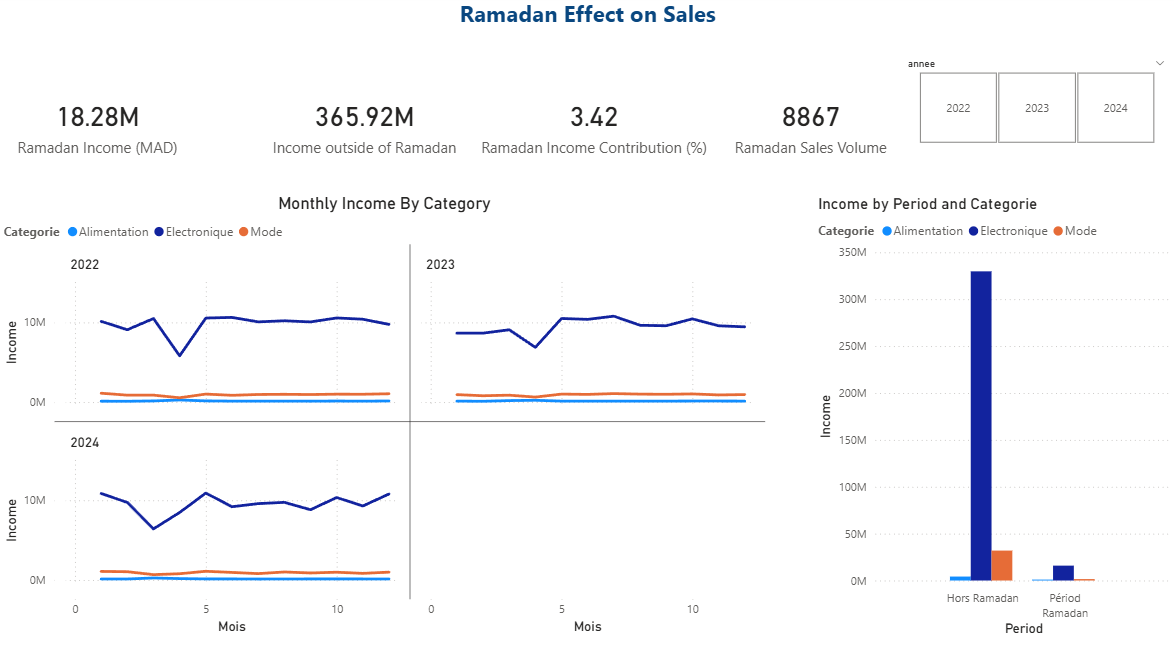

Layout of this report page (visuals, bound fields, positions):
{"tool":"powerbi","page":{"name":"Effet Ramadan","canvas":[1280,720],"ordinal":4},"visuals":[{"type":"textbox","box":[227.7,0,1031.2,91.1],"z":0},{"type":"card","fields":{"Values":["FAIT_VENTES.CA Ramadan"]},"box":[0,45.4,300.5,141.7],"z":1000},{"type":"card","fields":{"Values":["FAIT_VENTES.CA Hors Ramadan"]},"box":[274,49.1,300.5,138],"z":2000},{"type":"card","fields":{"Values":["FAIT_VENTES.Retours Total"]},"box":[749.8,60.2,203.3,117.1],"z":3000},{"type":"lineChart","fields":{"Category":["MV_CA_MENSUEL.mois"],"Y":["Sum(MV_CA_MENSUEL.ca_ttc)"],"Series":["MV_CA_MENSUEL.categorie"],"Rows":["MV_CA_MENSUEL.annee"]},"box":[19.5,224.5,832.8,445.7],"z":4000},{"type":"card","fields":{"Values":["FAIT_VENTES.% CA Ramadan"]},"box":[540,55.3,203.3,118.7],"z":5000},{"type":"clusteredColumnChart","fields":{"Category":["MV_CA_MENSUEL.categorie"],"Y":["Sum(MV_CA_MENSUEL.ca_ttc)"],"Series":["MV_CA_MENSUEL.periode_ramadan"]},"box":[943,259,266,412],"z":6000},{"type":"slicer","fields":{"Values":["MV_CA_MENSUEL.annee"]},"box":[967.8,55.3,253.7,104.1],"z":7000}]}

Visuals, with their boxes in screenshot pixels (x1, y1, x2, y2), scaled from the page's 1280x720 canvas onto the 1174x655 screenshot:
textbox: <region>209, 0, 1155, 83</region>
card - FAIT_VENTES.CA Ramadan: <region>0, 41, 276, 170</region>
card - FAIT_VENTES.CA Hors Ramadan: <region>251, 45, 527, 170</region>
card - FAIT_VENTES.Retours Total: <region>688, 55, 874, 161</region>
lineChart - MV_CA_MENSUEL.mois x Sum(MV_CA_MENSUEL.ca_ttc): <region>18, 204, 782, 610</region>
card - FAIT_VENTES.% CA Ramadan: <region>495, 50, 682, 158</region>
clusteredColumnChart - MV_CA_MENSUEL.categorie x Sum(MV_CA_MENSUEL.ca_ttc): <region>865, 236, 1109, 610</region>
slicer - MV_CA_MENSUEL.annee: <region>888, 50, 1120, 145</region>
